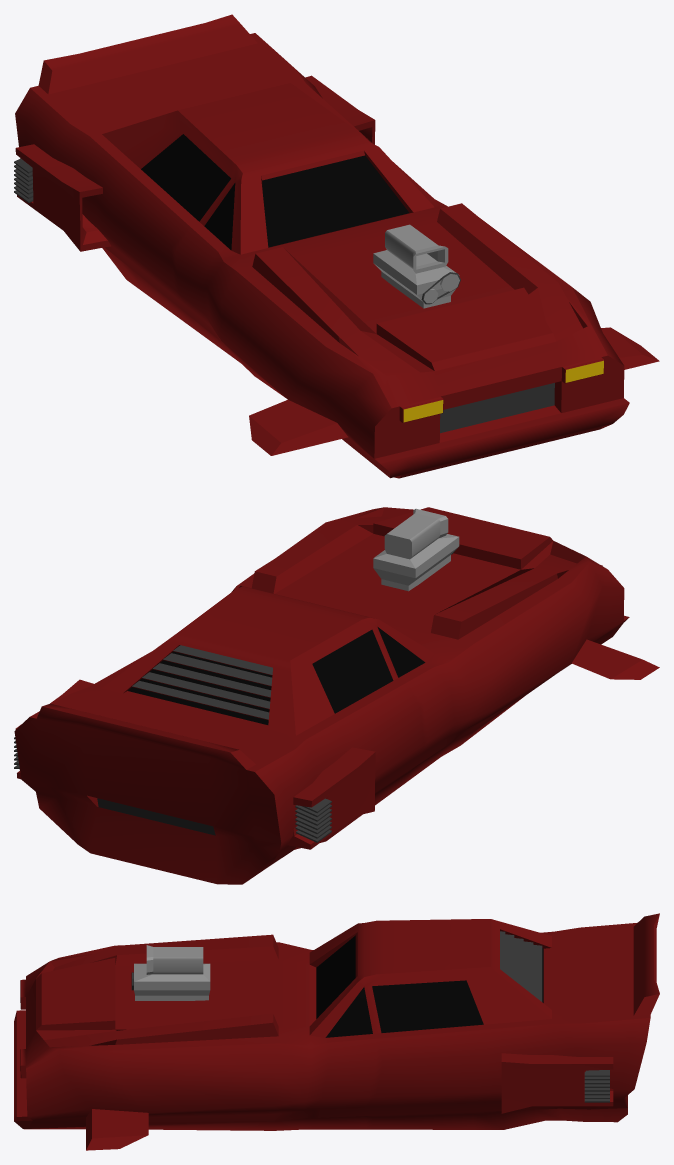
The model's file is musclePrototype.fbx.
The picture shows the model from 3 angles, top to bottom: view 1: azimuth 30°, elevation 25°; view 2: azimuth 150°, elevation 25°; view 3: azimuth 270°, elevation 25°; orthographic projection. The views are drawn at different scales.
Visible parts, largest first — view 1: Muscle; view 2: Muscle; view 3: Muscle.
Boxes of the visible parts, x1,y1,x2,y2 form: Muscle: (14, 14, 659, 478); Muscle: (14, 507, 659, 884); Muscle: (14, 913, 659, 1150).
Size of the model in its own units: 2.59 by 1.05 by 4.26.
